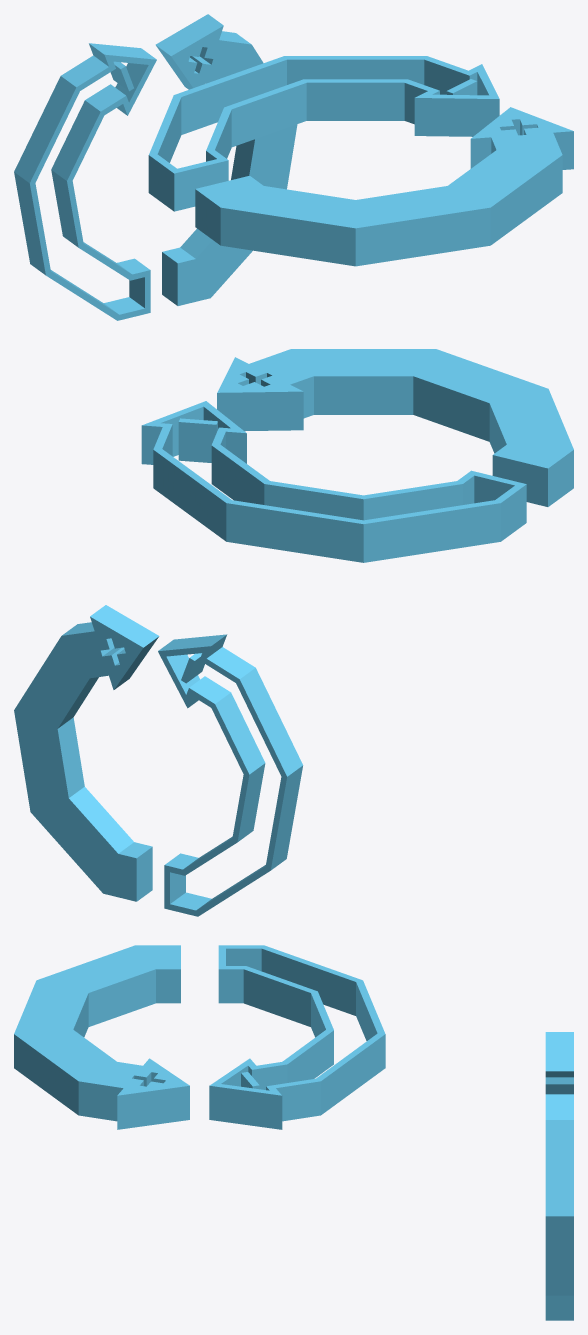
The model's file is mpe_arrow_wheel_3.dae.
3 renders of one model, top to bottom at view 1: azimuth 30°, elevation 25°; view 2: azimuth 150°, elevation 25°; view 3: azimuth 270°, elevation 25°, orthographic. The views are drawn at different scales.
Parts seen in each view (by area): view 1: arrows; view 2: arrows; view 3: arrows.
Boxes of the visible parts, box(x1,y1,x2,y2) form: arrows: box(14, 14, 573, 320); arrows: box(14, 349, 573, 916); arrows: box(14, 945, 573, 1320).
Bounding box in the file's own units: 0.4717 × 0.7422 × 0.4087.
